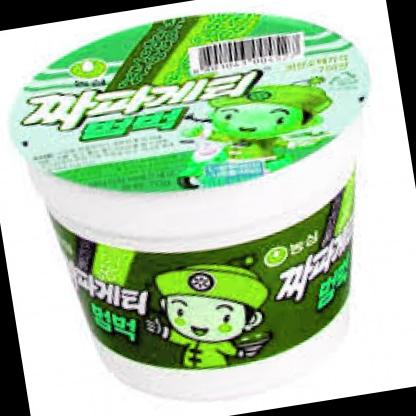Ramen: (6, 0, 416, 406)
